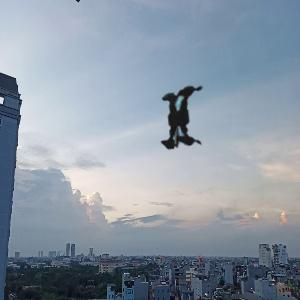drone: (84, 25, 278, 219)
